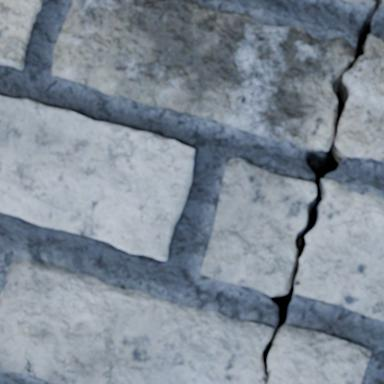brick: (0, 96, 194, 260), (0, 0, 42, 68)
broken_brick: (51, 0, 352, 149), (0, 258, 271, 383), (199, 157, 314, 295), (298, 178, 383, 321), (268, 324, 372, 383), (337, 34, 383, 160), (343, 0, 373, 6)
crack: (259, 0, 383, 383), (316, 298, 347, 308), (22, 356, 36, 376)
